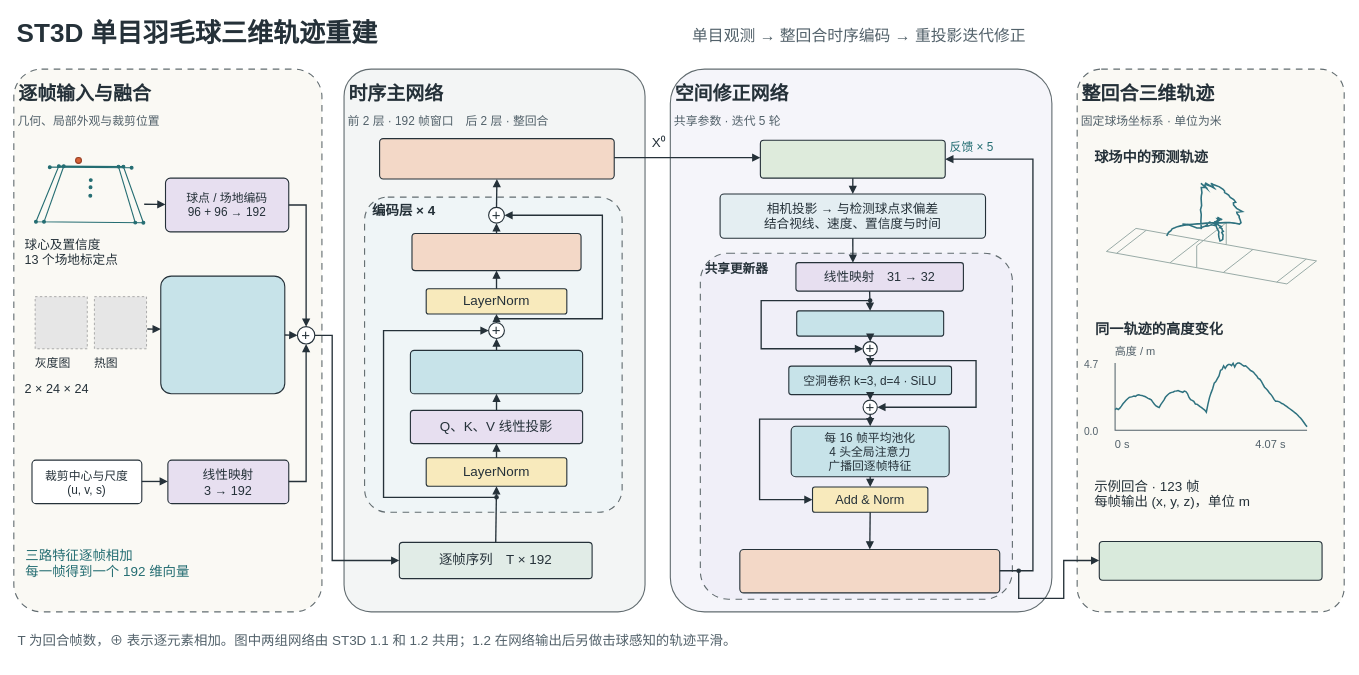
The diagram is 1359 pixels wide and 675 high, and some of its shapes have lost their labels. Grey dashed boxes stand in for pictures. The box of each missing label's shape, as (x1, y1, x2, y2) in pixels:
3 × 3 卷积 + GELU 2 → 16 → 32 → 32 平均池化、展平 288 → 192 · LN: (160, 275, 285, 394)
6 头自注意力 Q、K 按时间旋转: (409, 349, 583, 394)
MLP 32 → 8 · 门控位移 Xᵏ⁺¹ = Xᵏ + ΔXᵏ: (739, 548, 1000, 593)
前馈网络 · GELU 192 → 768 → 192: (411, 232, 581, 271)
当前三维轨迹 Xᵏ: (759, 139, 945, 178)
时序卷积 k=5 · SiLU: (796, 310, 944, 336)
输出 X⁵ T × 3: (1098, 541, 1322, 580)
逐帧回归头 · LN → MLP 192 → 192 → 3: (379, 138, 614, 179)
